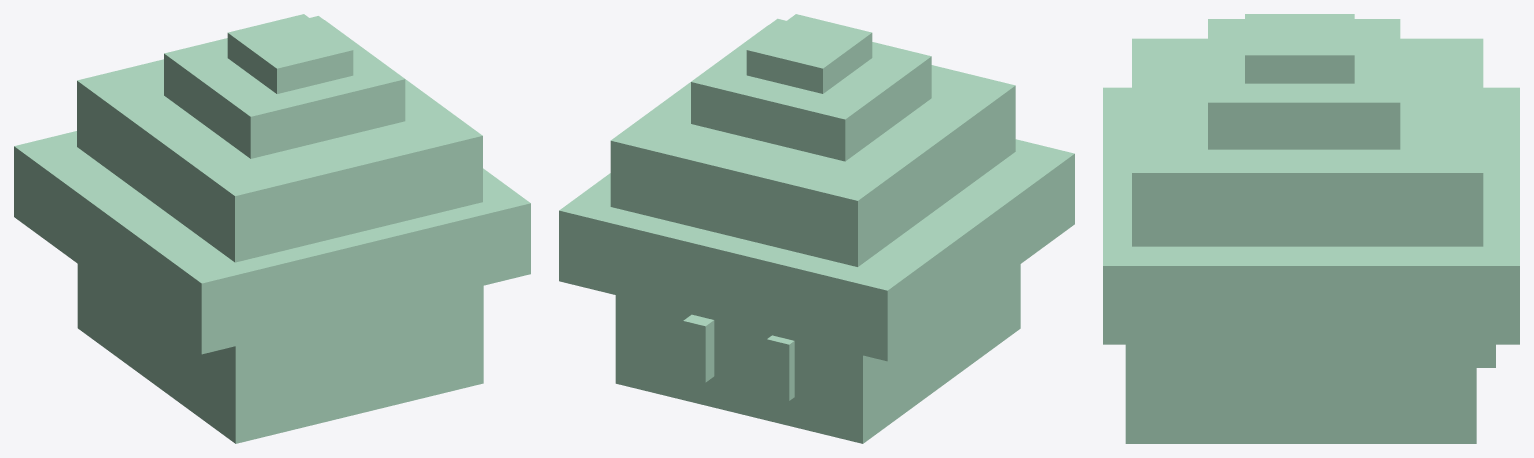
3 views of the same model, side by side, from view 1: azimuth 30°, elevation 25°; view 2: azimuth 150°, elevation 25°; view 3: azimuth 270°, elevation 25° (orthographic). The views are drawn at different scales.
Parts seen in each view (by area): view 1: Cube.001, Cube.002, Cube, Cube.003, Cube.006; view 2: Cube.001, Cube.002, Cube, Cube.003, Cube.006, Cube.004, Cube.005; view 3: Cube.002, Cube.001, Cube, Cube.003, Cube.006, Cube.004.
Part boxes in pixels (left/top/right/bottom): Cube.001: left=14, top=131, right=530, bottom=354; Cube.002: left=77, top=20, right=482, bottom=262; Cube: left=77, top=264, right=483, bottom=443; Cube.003: left=164, top=16, right=405, bottom=158; Cube.006: left=227, top=14, right=353, bottom=93; Cube.001: left=559, top=139, right=1074, bottom=361; Cube.002: left=610, top=25, right=1015, bottom=266; Cube: left=615, top=264, right=1020, bottom=443; Cube.003: left=691, top=18, right=931, bottom=161; Cube.006: left=746, top=14, right=872, bottom=93; Cube.004: left=683, top=314, right=714, bottom=382; Cube.005: left=767, top=335, right=794, bottom=400; Cube.002: left=1132, top=38, right=1483, bottom=246; Cube.001: left=1103, top=87, right=1519, bottom=344; Cube: left=1125, top=344, right=1476, bottom=443; Cube.003: left=1208, top=19, right=1400, bottom=149; Cube.006: left=1245, top=14, right=1354, bottom=83; Cube.004: left=1476, top=344, right=1495, bottom=367.
Size of the model in its own units: 4.14 by 3.76 by 4.09.
